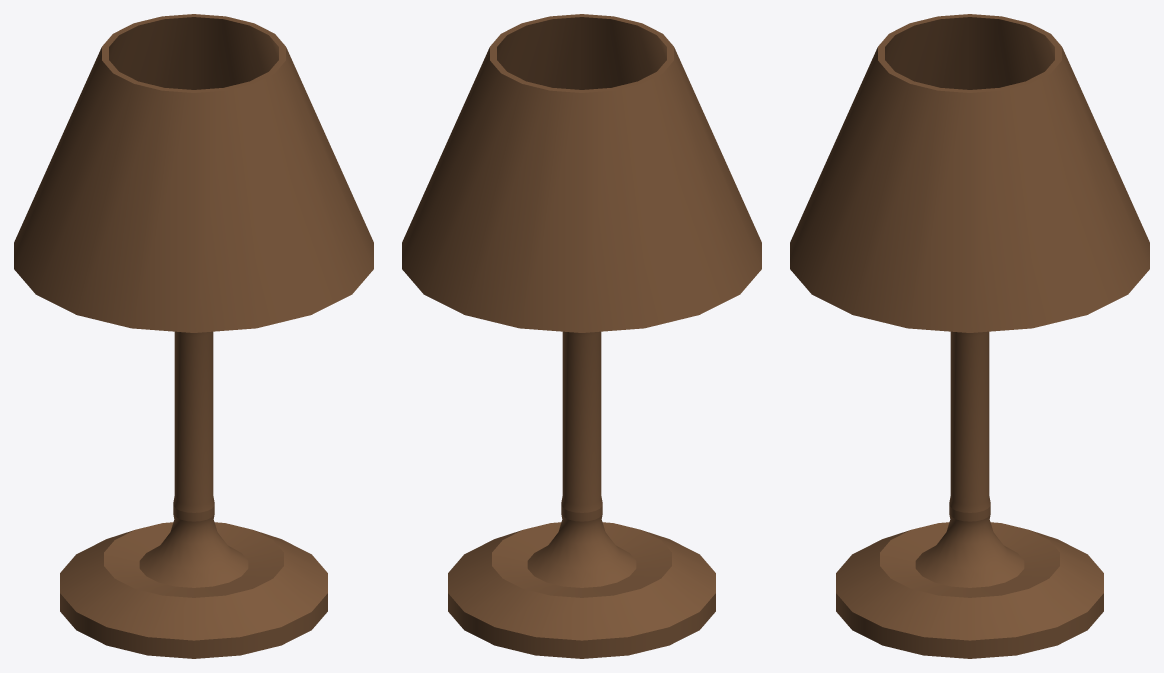
Rendered from Lamp.fbx.
3 views of the same model, side by side, from view 1: azimuth 30°, elevation 25°; view 2: azimuth 150°, elevation 25°; view 3: azimuth 270°, elevation 25° (orthographic).
Visible parts, largest first — view 1: Lamp; view 2: Lamp; view 3: Lamp.
Boxes of the visible parts, <box> form: Lamp: <box>14,14,373,658</box>; Lamp: <box>402,14,761,658</box>; Lamp: <box>790,14,1149,658</box>.
Bounding box in the file's own units: 18 × 29.79 × 17.73.
Materials: 1 (1 with a texture image).
